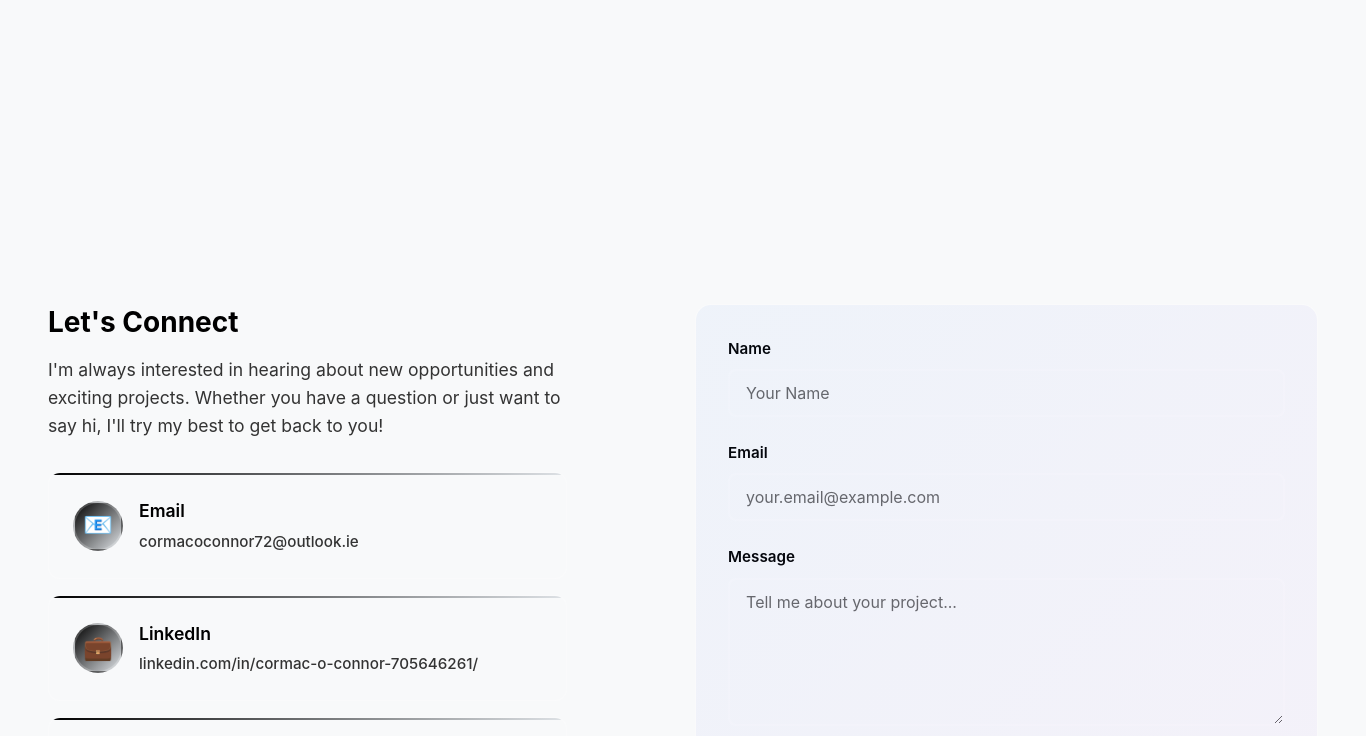
Test case: Contact Component › shows loading state when form is submitted
Fill out valid form
Type "John Doe" into the field labelled "Name".
click(1007, 393); type("John Doe")  # box [728, 369, 1285, 417]
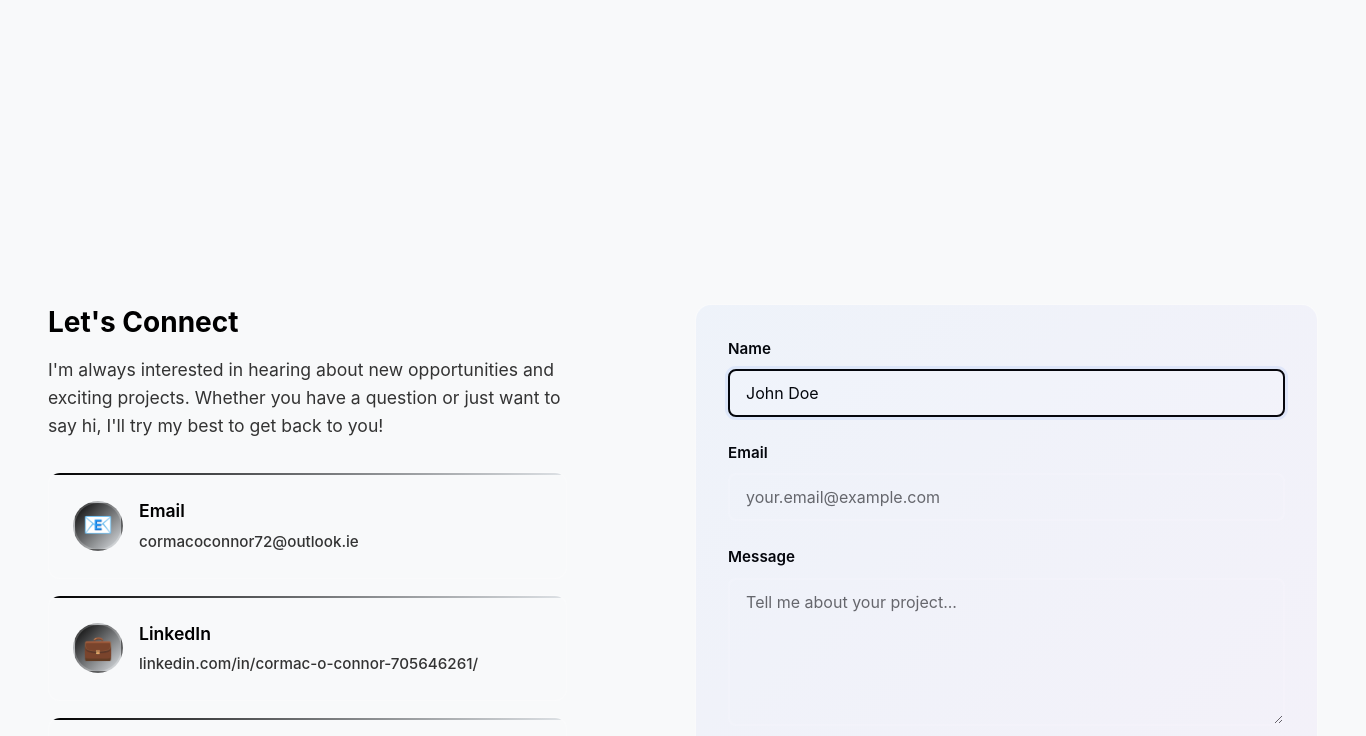
Type "john@example.com" into the field labelled "Email".
click(1007, 497); type("john@example.com")  # box [728, 473, 1285, 521]
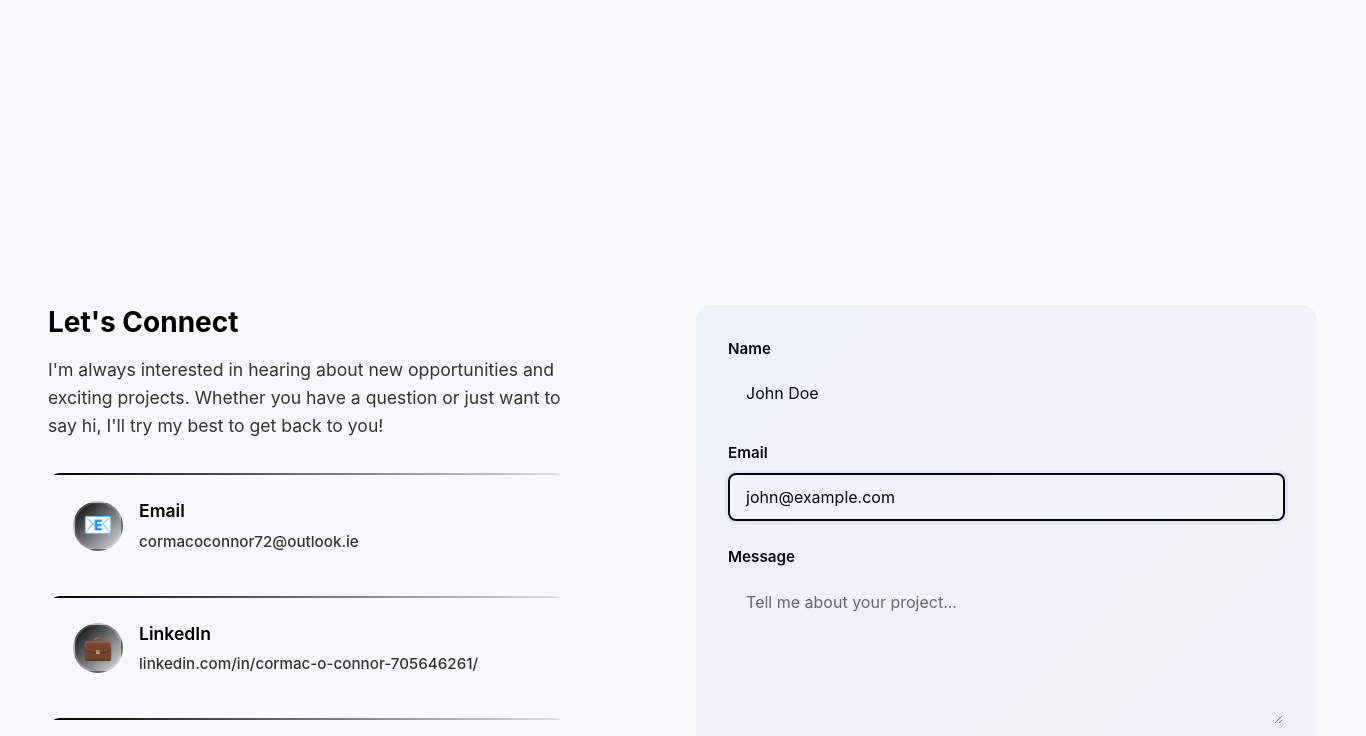
Type "Test message" into the text box labelled "Message".
click(1007, 652); type("Test message")  # box [728, 578, 1285, 726]
(page scrolled)
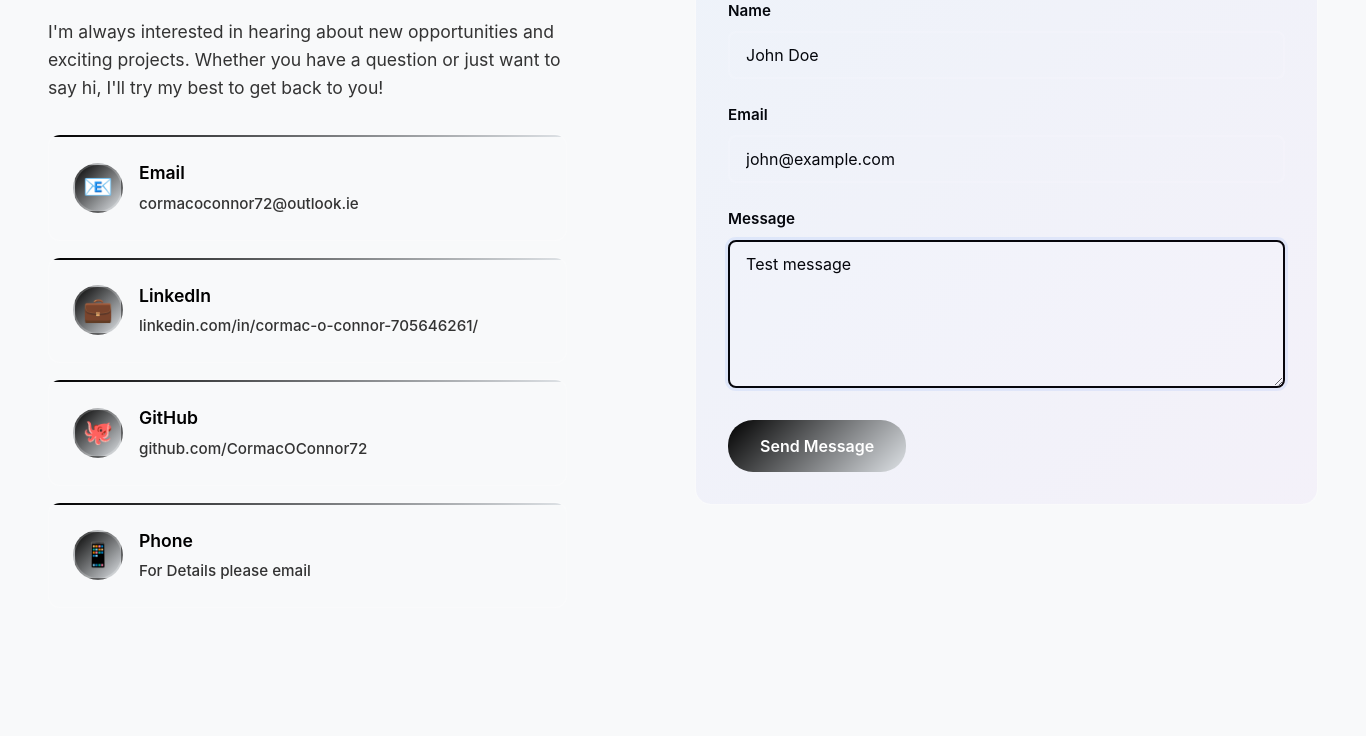
Click the button "Send Message".
click(817, 446)  # box [728, 420, 906, 472]
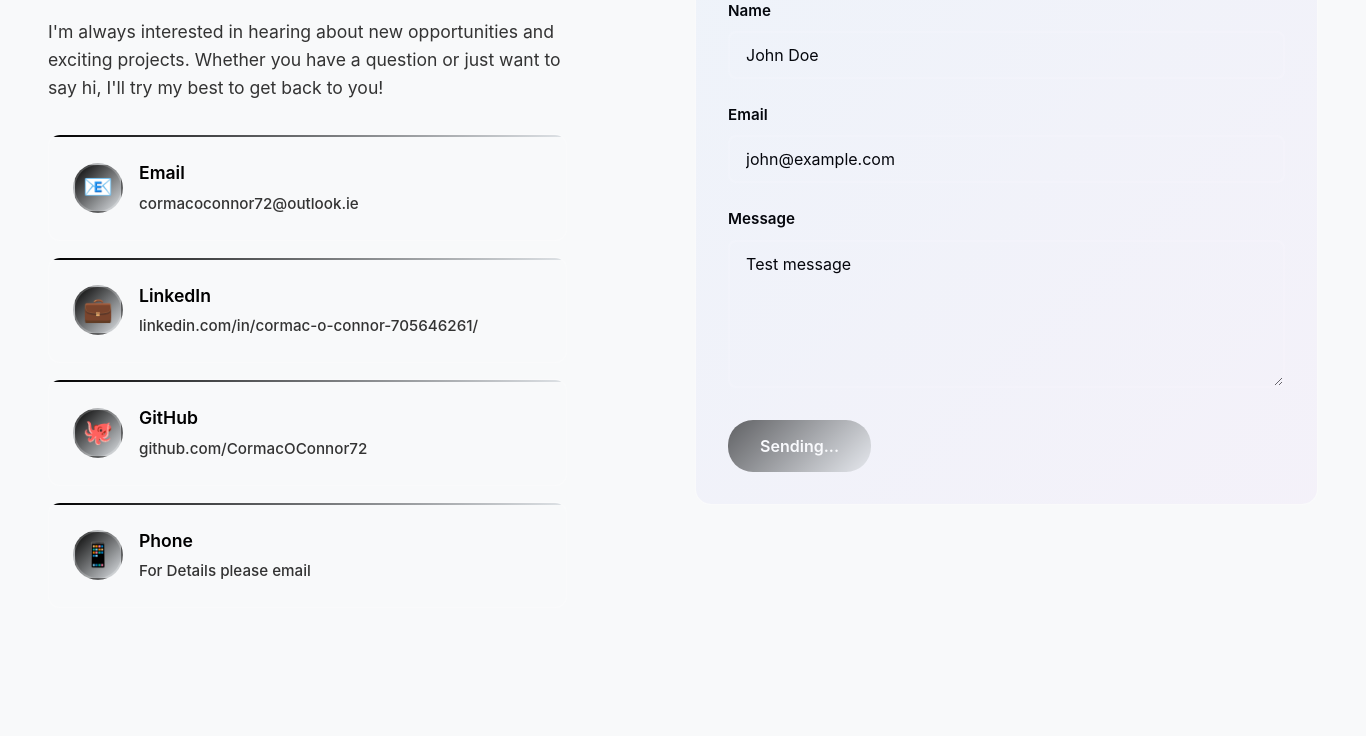
Check: the button named "send message" is disabled, box [728, 420, 871, 472]
